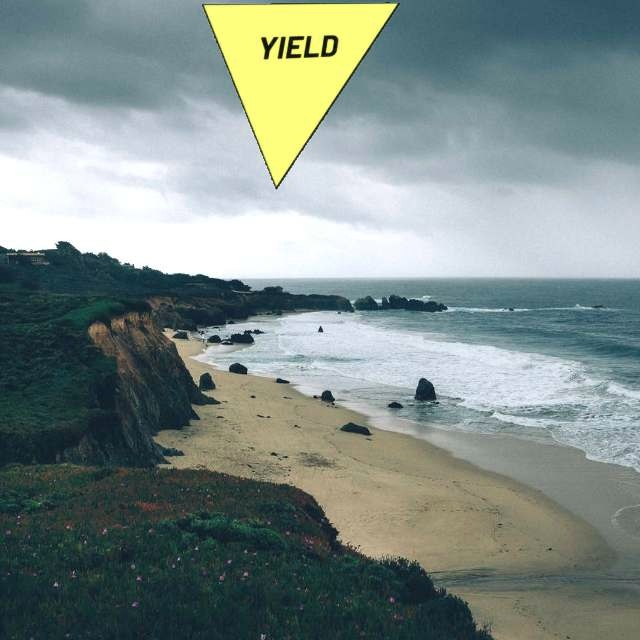YIELD: (201, 2, 400, 190)
